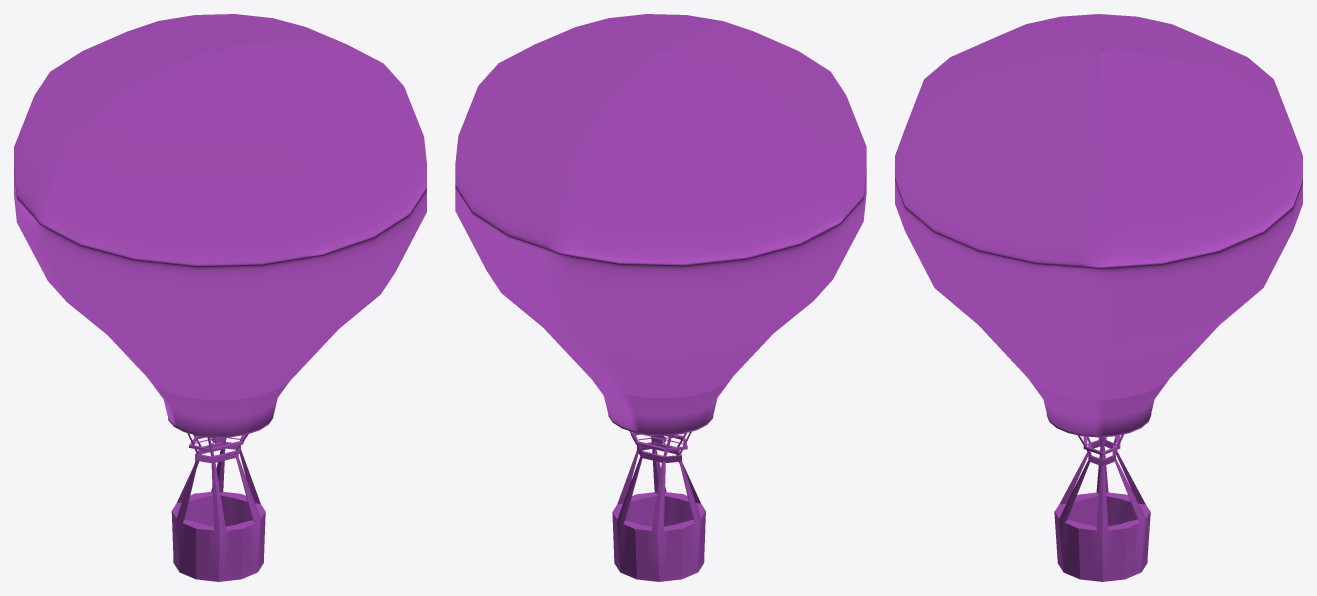
3 renders of one model, left to right at view 1: azimuth 30°, elevation 25°; view 2: azimuth 150°, elevation 25°; view 3: azimuth 270°, elevation 25°, orthographic.
Parts seen in each view (by area): view 1: pCylinder1, pDisc1; view 2: pCylinder1, pDisc1; view 3: pCylinder1, pDisc1.
Boxes of the visible parts, box(x1,y1,x2,y2) form: pCylinder1: box(14, 14, 426, 437); pDisc1: box(171, 433, 265, 581); pCylinder1: box(455, 14, 866, 435); pDisc1: box(612, 431, 705, 581); pCylinder1: box(895, 14, 1302, 437); pDisc1: box(1054, 434, 1150, 581).
Bounding box in the file's own units: 10777 × 14738 × 10572.
